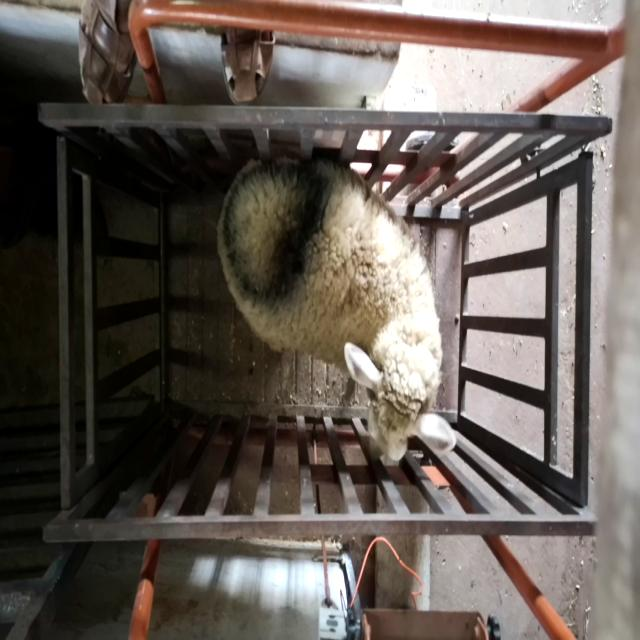sheep: (217, 157, 457, 461)
